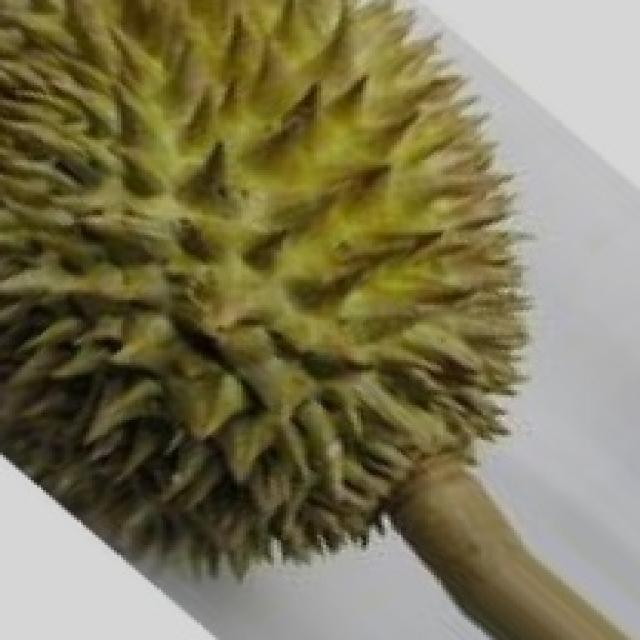fruit: (0, 232, 372, 637)
